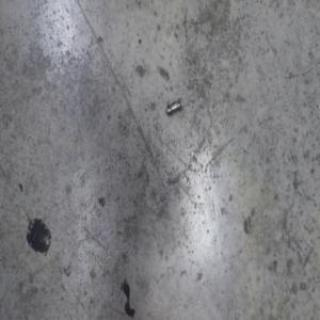Bolttrack_idkeyframe: (165, 98, 182, 118)
